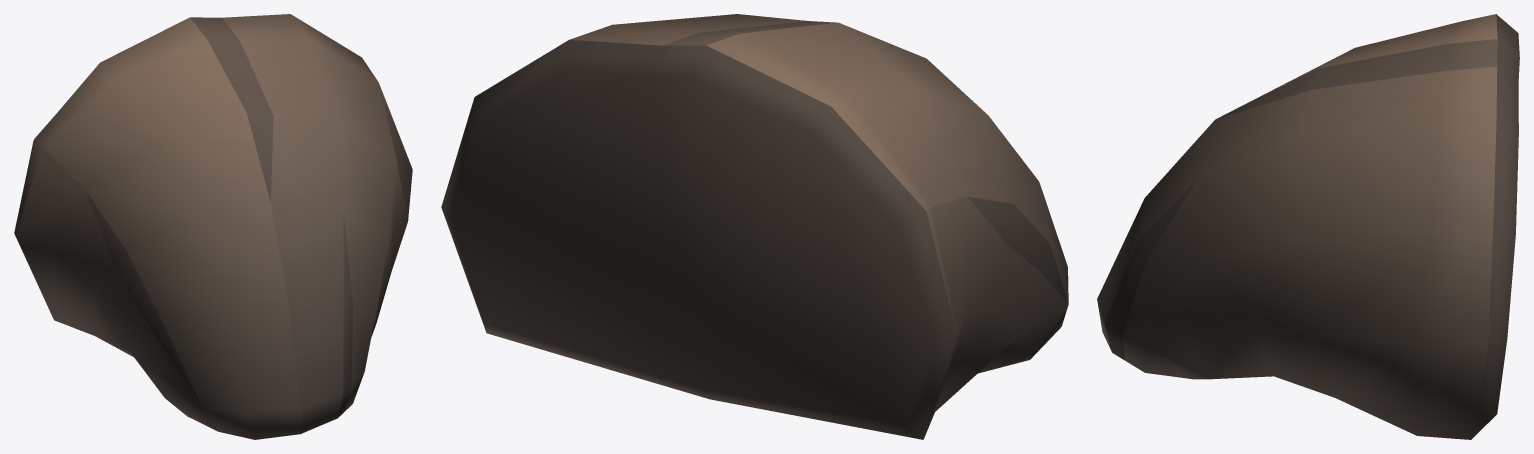
The model's file is elf_tree_root_3.fbx.
3 renders of one model, left to right at view 1: azimuth 30°, elevation 25°; view 2: azimuth 150°, elevation 25°; view 3: azimuth 270°, elevation 25°, orthographic. The views are drawn at different scales.
Parts seen in each view (by area): view 1: elf_tree_root_3; view 2: elf_tree_root_3; view 3: elf_tree_root_3.
Part boxes in pixels (<box>): elf_tree_root_3: <box>14,14,412,439</box>; elf_tree_root_3: <box>441,14,1068,439</box>; elf_tree_root_3: <box>1097,14,1519,439</box>.
Bounding box in the file's own units: 1.95 × 1.41 × 1.62.
